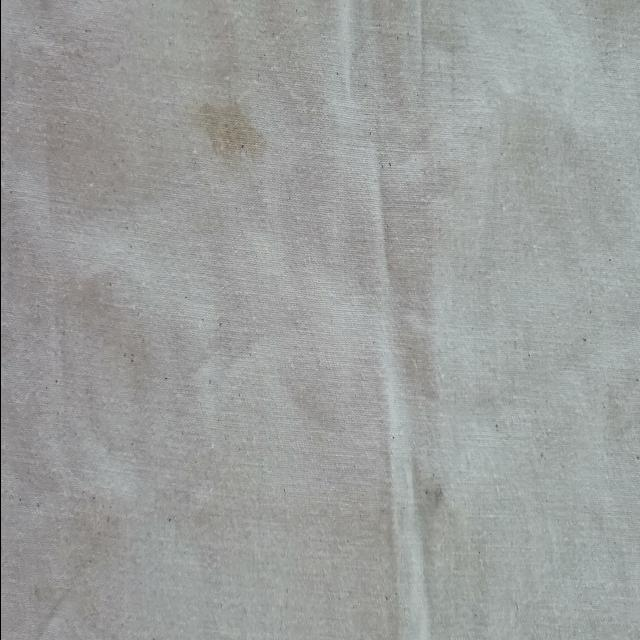taaaches: (186, 86, 268, 182), (403, 453, 461, 552)
